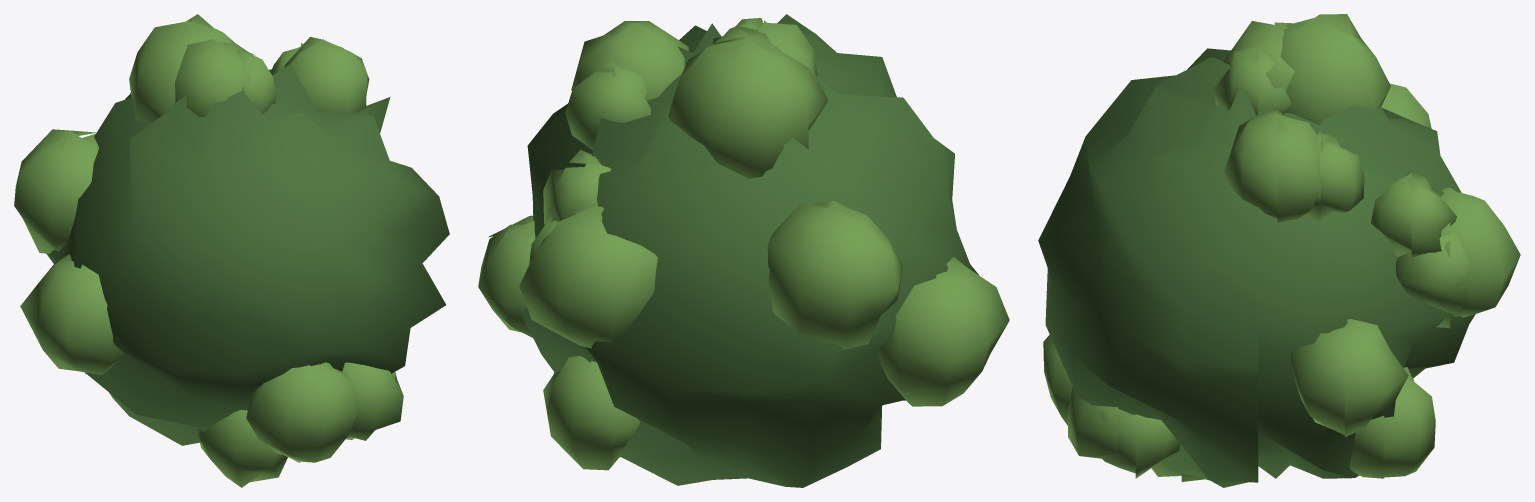
The model's file is moss_ball.glb.
3 views of the same model, side by side, from view 1: azimuth 30°, elevation 25°; view 2: azimuth 150°, elevation 25°; view 3: azimuth 270°, elevation 25° (orthographic). The views are drawn at different scales.
Parts seen in each view (by area): view 1: moss_ball; view 2: moss_ball; view 3: moss_ball.
Part boxes in pixels (box(x1,y1,x2,y2)): moss_ball: box(14, 14, 449, 487); moss_ball: box(478, 14, 1009, 487); moss_ball: box(1038, 14, 1520, 487).
Bounding box in the file's own units: 0.6211 × 0.6244 × 0.5908.
